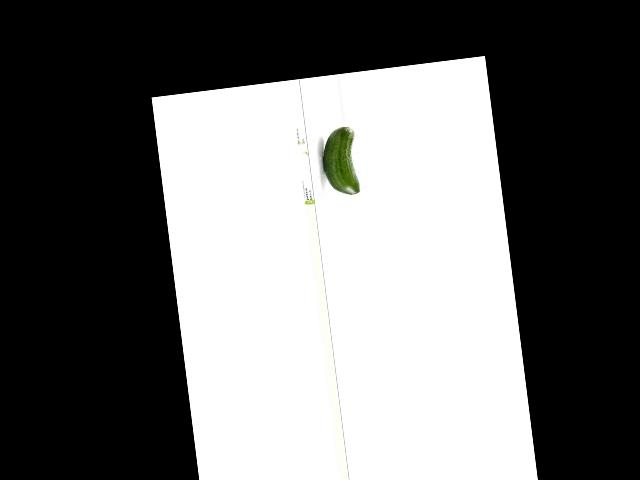cucumber: (318, 125, 360, 197)
